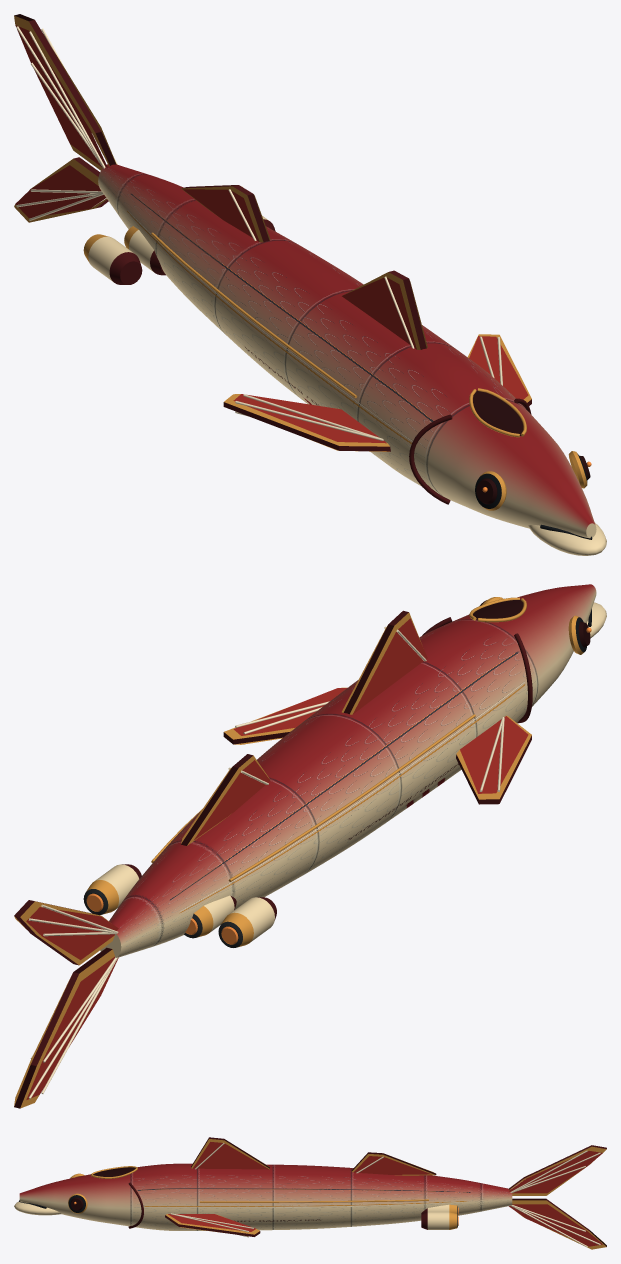
3 renders of one model, top to bottom at view 1: azimuth 30°, elevation 25°; view 2: azimuth 150°, elevation 25°; view 3: azimuth 270°, elevation 25°, orthographic. The views are drawn at different scales.
Visible parts, largest first — view 1: barracuda_hull; view 2: barracuda_hull; view 3: barracuda_hull.
Part boxes in pixels (bbox=[...]): barracuda_hull: bbox=[14, 14, 606, 555]; barracuda_hull: bbox=[14, 584, 606, 1108]; barracuda_hull: bbox=[14, 1137, 606, 1249].
Bounding box in the file's own units: 17.8 × 13.36 × 64.8.
1 material, 1 textured.
